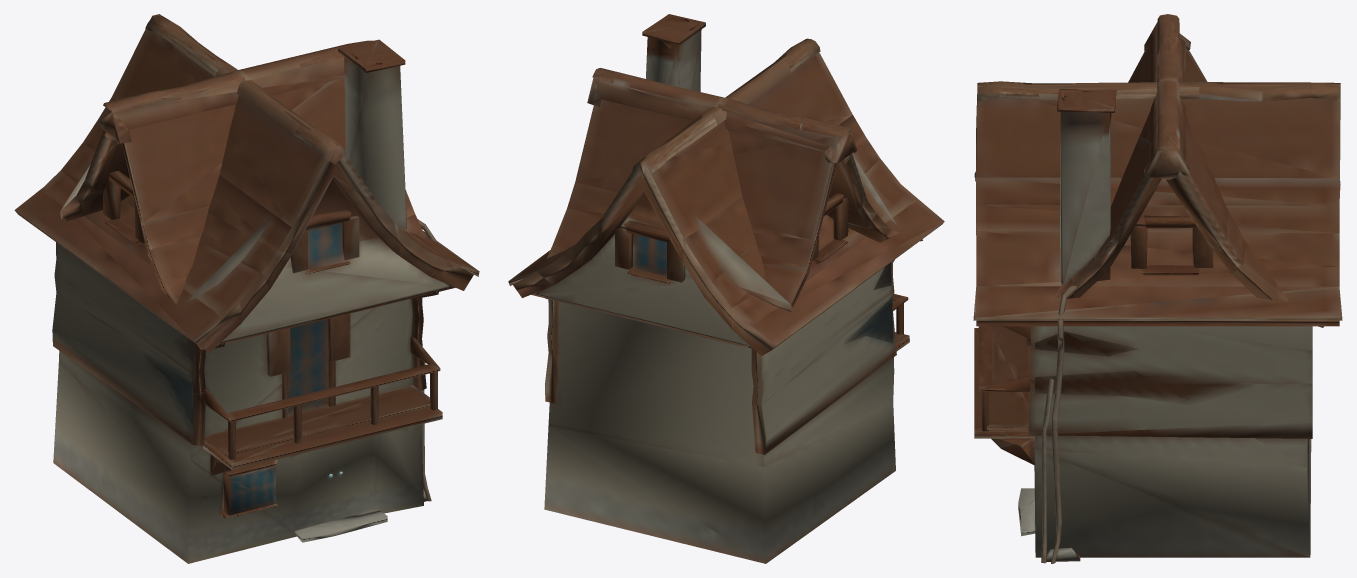
File: building-farmhouse.glb
The picture shows the model from 3 angles, left to right: view 1: azimuth 30°, elevation 25°; view 2: azimuth 150°, elevation 25°; view 3: azimuth 270°, elevation 25°; orthographic projection. The views are drawn at different scales.
Size of the model in its own units: 0.6504 by 0.9517 by 0.7139.
1 material, 1 textured.
